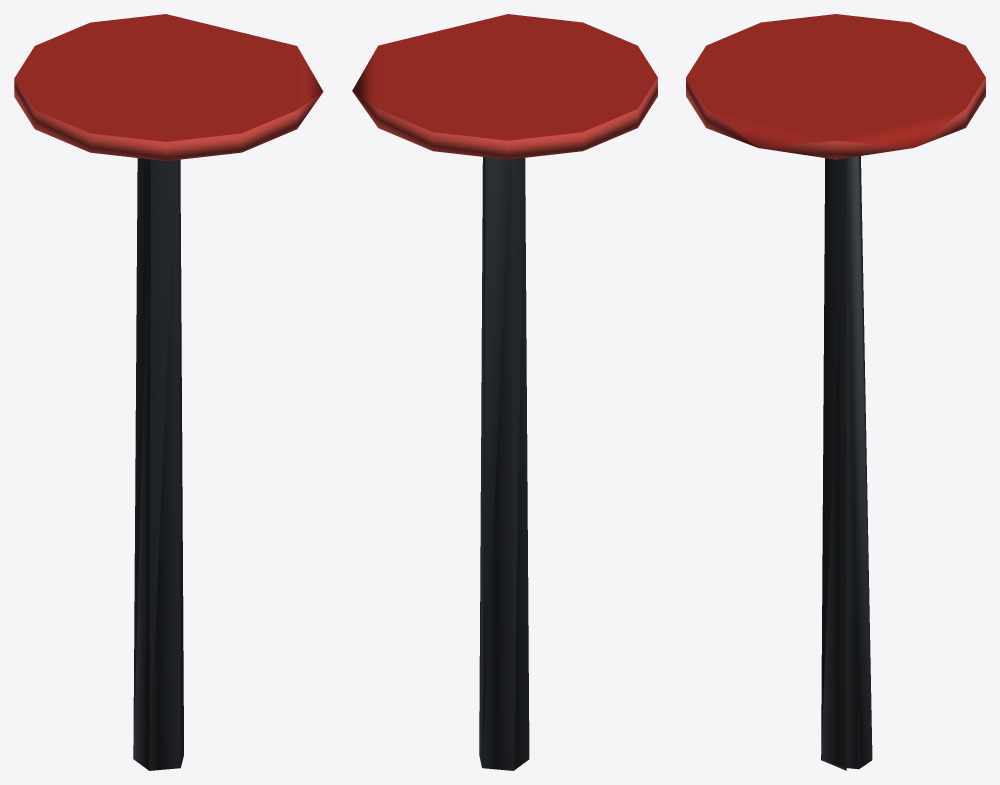
The model's file is road-sign-disc-v1.lod2.glb.
3 renders of one model, left to right at view 1: azimuth 30°, elevation 25°; view 2: azimuth 150°, elevation 25°; view 3: azimuth 270°, elevation 25°, orthographic.
Parts seen in each view (by area): view 1: road-sign-disc-v1.lod2; view 2: road-sign-disc-v1.lod2; view 3: road-sign-disc-v1.lod2.
Boxes of the visible parts, x1,y1,x2,y2 form: road-sign-disc-v1.lod2: [14, 14, 323, 770]; road-sign-disc-v1.lod2: [352, 14, 657, 770]; road-sign-disc-v1.lod2: [686, 14, 985, 770].
Bounding box in the file's own units: 1 × 2.52 × 1.
